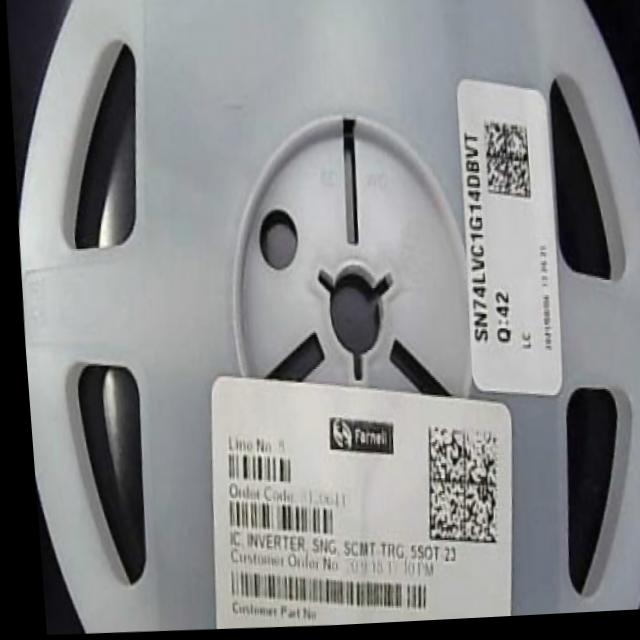datamatrix: (413, 425, 498, 555), (477, 120, 533, 211)
